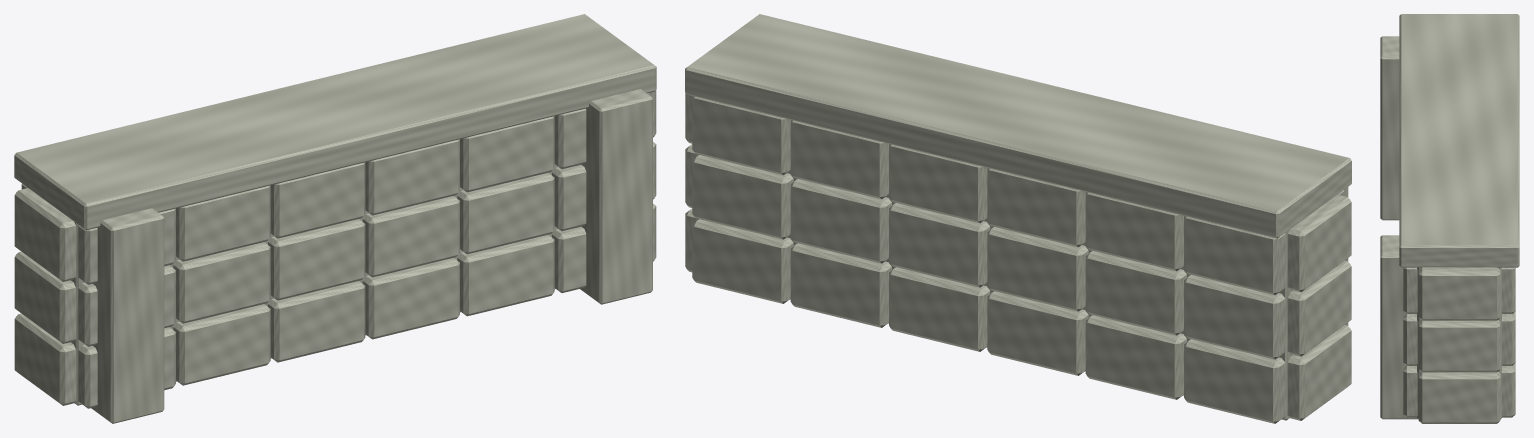
Rendered from harbor_seawall.glb.
The picture shows the model from 3 angles, left to right: view 1: azimuth 30°, elevation 25°; view 2: azimuth 150°, elevation 25°; view 3: azimuth 270°, elevation 25°; orthographic projection. The views are drawn at different scales.
Visible parts, largest first — view 1: harbor_seawall_Structure; view 2: harbor_seawall_Structure; view 3: harbor_seawall_Structure.
Boxes of the visible parts, x1,y1,x2,y2 form: harbor_seawall_Structure: [14, 14, 656, 423]; harbor_seawall_Structure: [685, 14, 1351, 423]; harbor_seawall_Structure: [1380, 14, 1519, 423].
Size of the model in its own units: 4.2 by 1.45 by 1.02.
1 material, 1 textured.
